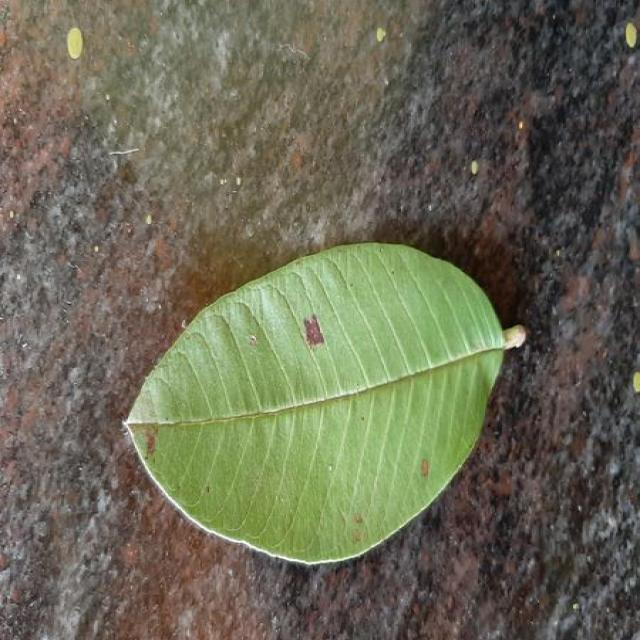leaf: (121, 239, 526, 565)
